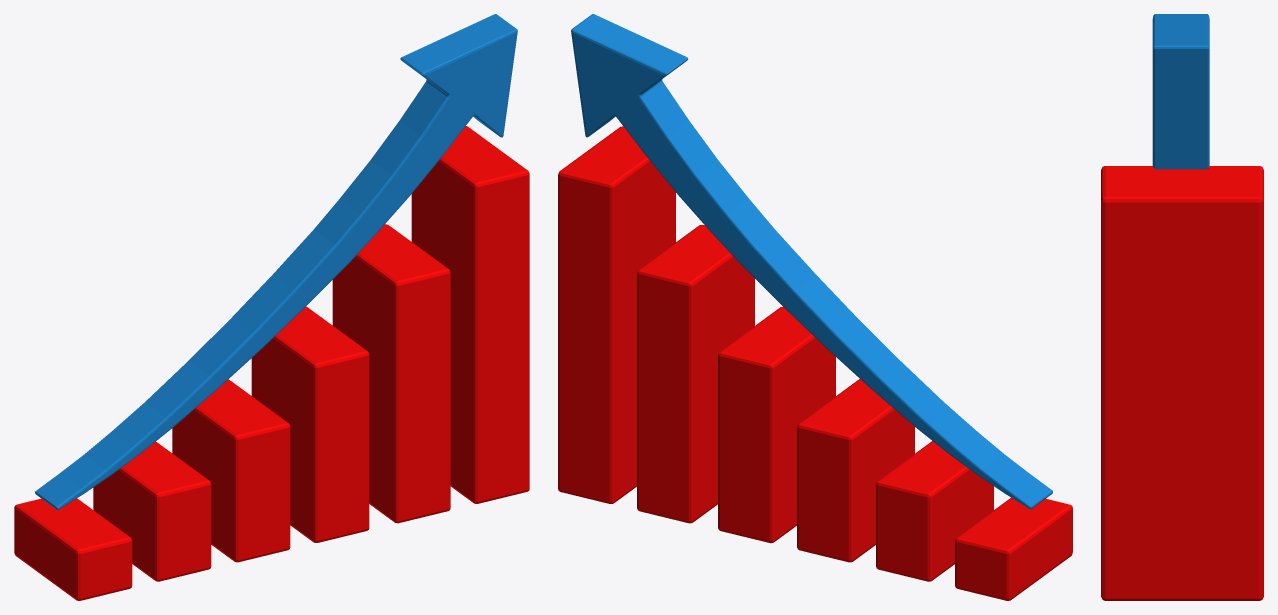
File: Upward Trend.glb
3 renders of one model, left to right at view 1: azimuth 30°, elevation 25°; view 2: azimuth 150°, elevation 25°; view 3: azimuth 270°, elevation 25°, orthographic. The views are drawn at different scales.
Bounding box in the file's own units: 9.83 × 9.07 × 2.39.
Materials: 1 (1 with a texture image).
